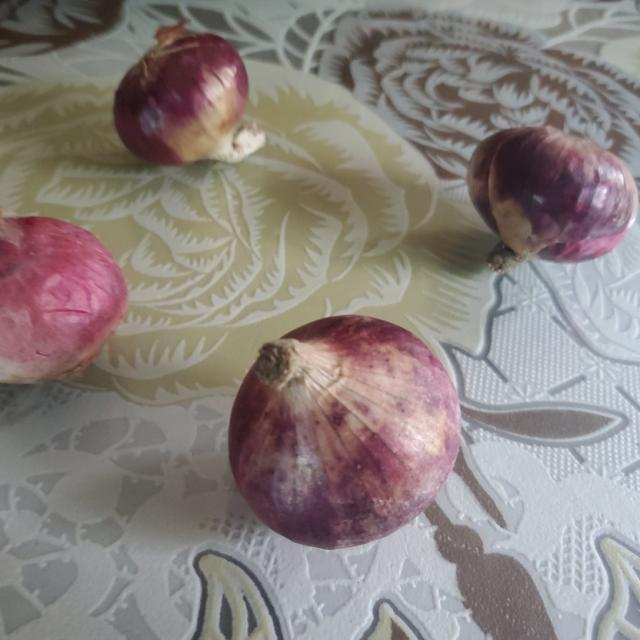onion: (234, 316, 467, 546), (467, 126, 639, 259), (114, 28, 268, 162), (0, 215, 121, 381)
